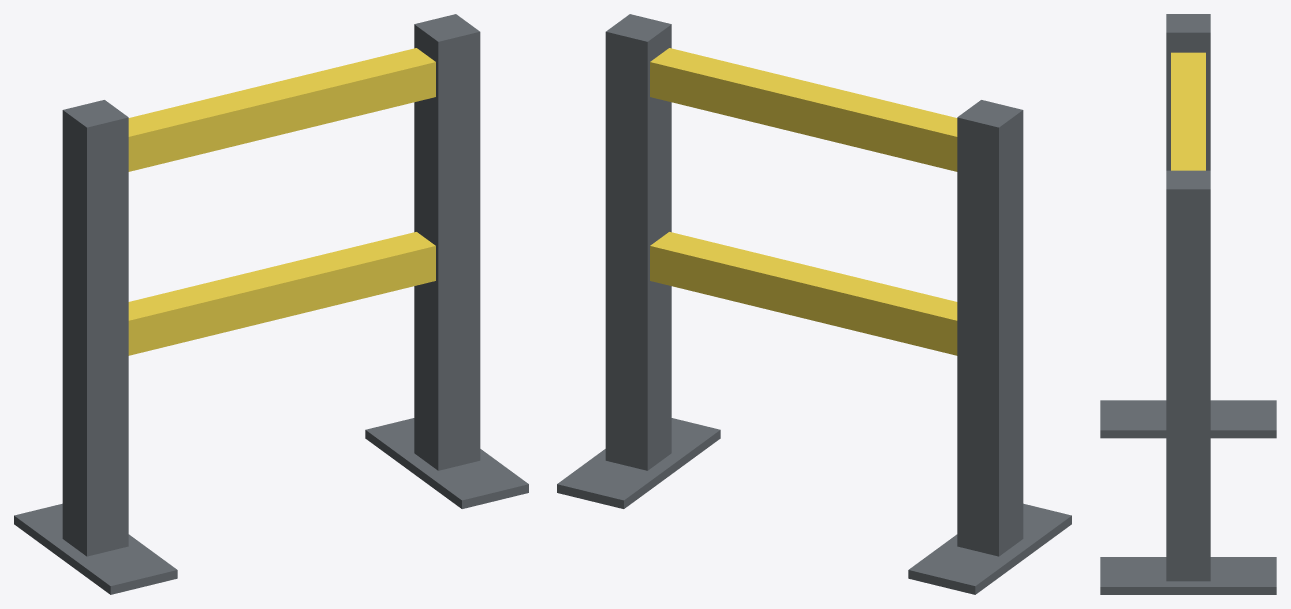
Rendered from Safety_Barrier.glb.
3 renders of one model, left to right at view 1: azimuth 30°, elevation 25°; view 2: azimuth 150°, elevation 25°; view 3: azimuth 270°, elevation 25°, orthographic. The views are drawn at different scales.
Parts seen in each view (by area): view 1: Safety_Barrier; view 2: Safety_Barrier; view 3: Safety_Barrier.
Part boxes in pixels (bbox=[...]): Safety_Barrier: bbox=[14, 14, 528, 594]; Safety_Barrier: bbox=[557, 14, 1071, 594]; Safety_Barrier: bbox=[1100, 14, 1276, 594].
Bounding box in the file's own units: 1 × 1 × 0.4.
